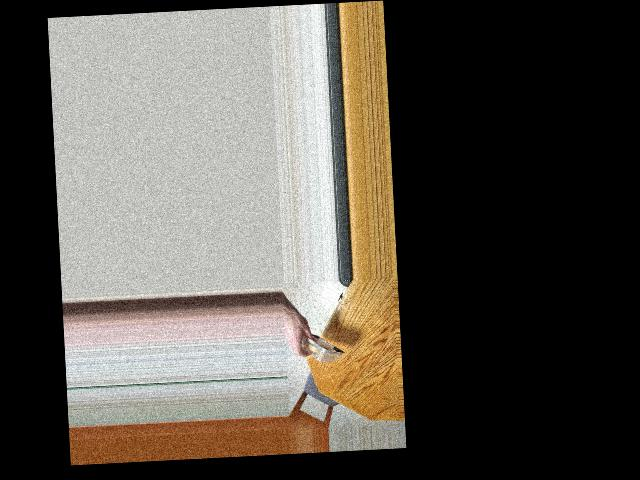cheese: (290, 316, 335, 376)
